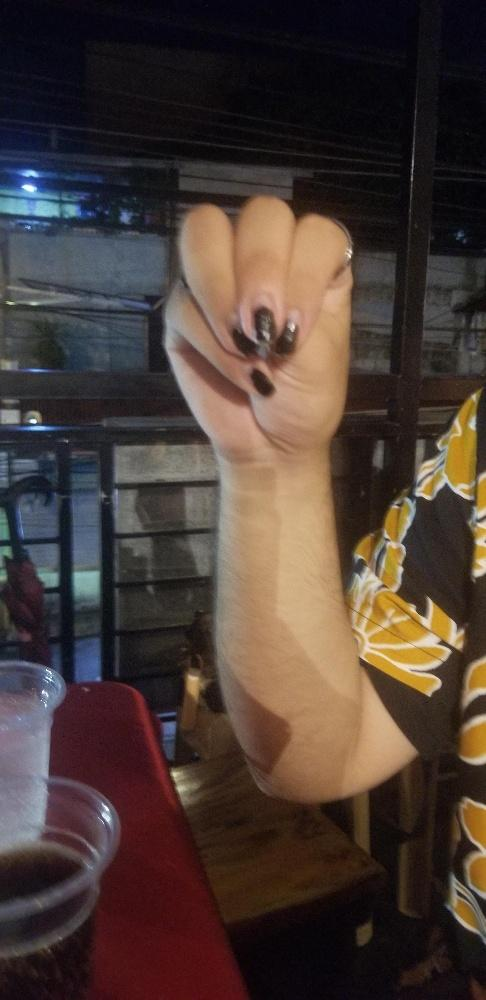m: (162, 190, 366, 454)
